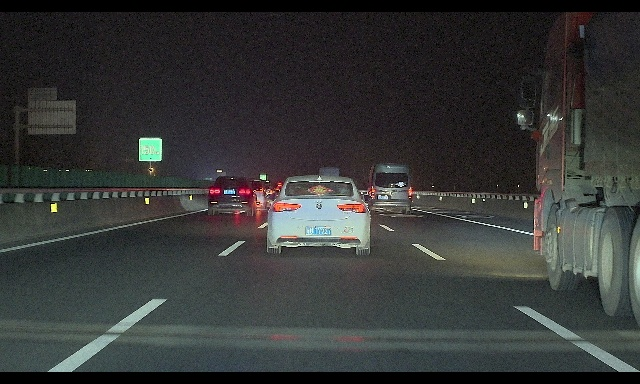car: (266, 174, 373, 255), (366, 162, 413, 215), (207, 175, 258, 216), (237, 179, 268, 210)
truck: (515, 12, 640, 327)
